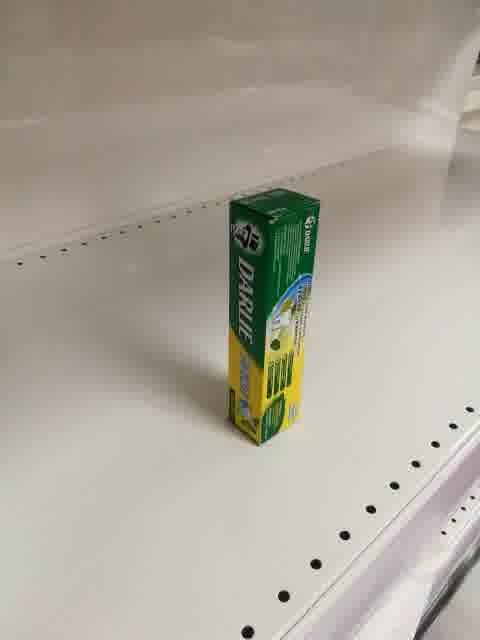toothpaste: (227, 188, 321, 446)
